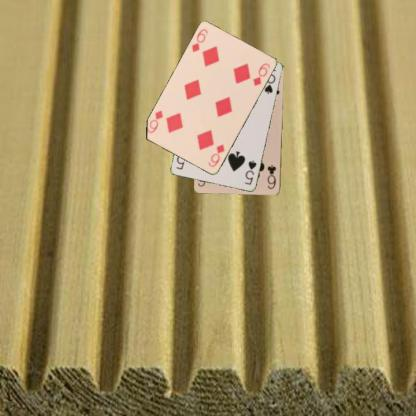5s: (242, 158, 258, 186)
6c: (265, 162, 277, 190)
6d: (189, 25, 209, 54), (206, 142, 226, 169)
